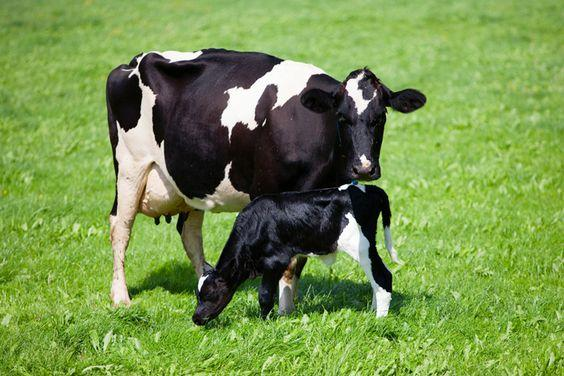cow: (89, 33, 429, 337)
